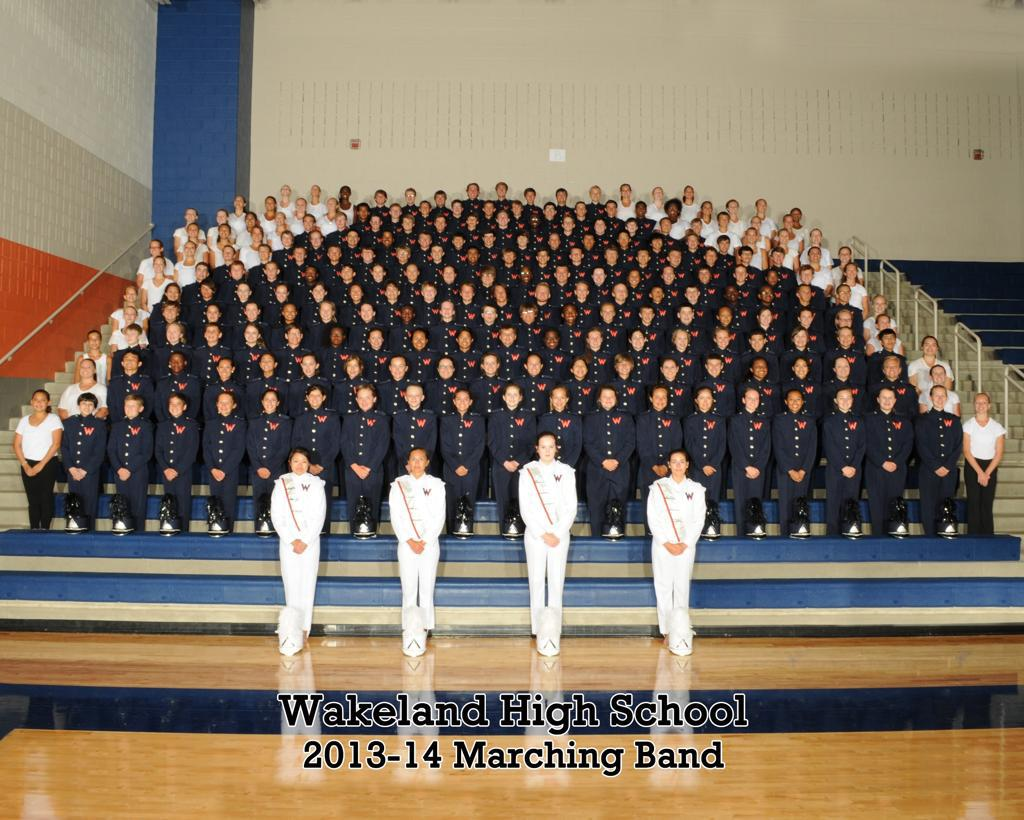face: (671, 455, 687, 475), (539, 438, 553, 460), (438, 360, 454, 379), (357, 392, 373, 411), (788, 393, 803, 412), (931, 389, 946, 408), (653, 390, 668, 409), (411, 453, 426, 472), (753, 360, 769, 377), (390, 360, 405, 378), (879, 390, 893, 409), (836, 359, 850, 378), (413, 332, 427, 351), (170, 357, 186, 373), (218, 397, 233, 414), (263, 393, 277, 411), (293, 456, 307, 474), (839, 391, 852, 410), (456, 393, 471, 409), (124, 354, 139, 370), (553, 392, 567, 409), (33, 393, 47, 410), (246, 305, 260, 322), (664, 360, 677, 378), (528, 358, 541, 376), (506, 389, 518, 408), (746, 392, 760, 408), (707, 359, 721, 375), (169, 399, 183, 415), (80, 362, 94, 378), (699, 393, 712, 410), (603, 390, 616, 407), (575, 361, 588, 378), (884, 361, 897, 378), (408, 388, 421, 405), (303, 358, 316, 375), (261, 355, 274, 372), (219, 361, 232, 378), (924, 339, 936, 357), (975, 398, 988, 414), (618, 359, 631, 375), (795, 361, 808, 377), (840, 331, 853, 347), (716, 331, 729, 347), (719, 309, 732, 325), (839, 314, 852, 330), (799, 286, 812, 302), (839, 287, 852, 303), (594, 268, 607, 284), (457, 332, 470, 348), (485, 358, 497, 375), (546, 333, 558, 350), (125, 402, 137, 419), (882, 334, 895, 349), (641, 309, 654, 324), (687, 288, 700, 303), (321, 304, 334, 319), (284, 306, 297, 321), (245, 327, 258, 342), (681, 308, 693, 324), (760, 310, 772, 326), (726, 286, 738, 302), (761, 288, 773, 304), (663, 268, 675, 284), (564, 306, 576, 322), (289, 330, 301, 346), (520, 267, 532, 283), (168, 326, 180, 342), (208, 307, 220, 323), (522, 308, 536, 321), (81, 401, 94, 415), (794, 332, 806, 347), (752, 336, 764, 351), (676, 334, 688, 349), (800, 311, 812, 326), (670, 251, 682, 266), (495, 286, 507, 301), (370, 333, 382, 348), (387, 285, 399, 300), (407, 265, 419, 280), (556, 267, 568, 282), (402, 308, 414, 323), (207, 327, 219, 342), (232, 265, 244, 280), (347, 361, 359, 376), (932, 369, 943, 385), (878, 317, 889, 333), (538, 286, 549, 302), (424, 285, 435, 301), (362, 306, 373, 322), (373, 266, 384, 282), (632, 334, 644, 348), (501, 331, 513, 345), (310, 392, 322, 406), (126, 330, 138, 344), (124, 310, 136, 324), (630, 271, 641, 286), (443, 303, 454, 318), (277, 287, 288, 302), (351, 285, 362, 300), (348, 231, 359, 246), (89, 335, 100, 350), (590, 332, 600, 348), (668, 202, 678, 218), (331, 329, 341, 345), (614, 285, 626, 298), (801, 270, 813, 283), (773, 251, 785, 264), (619, 233, 631, 246), (420, 234, 432, 247), (165, 307, 177, 320), (700, 269, 711, 283), (607, 249, 618, 263), (484, 307, 495, 321), (462, 286, 473, 300), (433, 247, 444, 261), (530, 216, 541, 230), (168, 287, 179, 301), (196, 266, 207, 280), (237, 285, 248, 299), (603, 306, 613, 321), (847, 265, 857, 280), (736, 268, 746, 283), (266, 264, 276, 279), (570, 250, 582, 262), (740, 250, 752, 262), (747, 230, 756, 246), (873, 299, 884, 312), (637, 251, 648, 264), (483, 272, 494, 285), (444, 269, 455, 282), (313, 287, 324, 300), (311, 234, 322, 247), (150, 243, 161, 256), (184, 243, 195, 256), (306, 268, 316, 282), (155, 260, 165, 274), (259, 247, 269, 261), (266, 198, 276, 212), (283, 234, 294, 246), (653, 288, 663, 301), (809, 250, 819, 263), (840, 250, 850, 263), (719, 239, 729, 252), (661, 220, 671, 233), (468, 249, 478, 262), (329, 248, 339, 261), (343, 268, 353, 281), (383, 232, 393, 245), (294, 249, 304, 262), (304, 217, 314, 230), (335, 216, 345, 229), (126, 290, 136, 303), (189, 226, 199, 239), (220, 226, 230, 239), (253, 229, 263, 242), (246, 214, 256, 227), (202, 284, 212, 297), (654, 189, 663, 203), (768, 272, 778, 284), (594, 222, 604, 234), (591, 189, 601, 201), (753, 218, 763, 230), (702, 203, 712, 215), (505, 251, 515, 263), (538, 252, 548, 264), (398, 250, 408, 262), (296, 201, 306, 213), (403, 218, 413, 230), (391, 206, 401, 218), (437, 218, 447, 230), (498, 214, 508, 226), (224, 247, 234, 259), (577, 285, 586, 298), (707, 250, 716, 263), (688, 236, 697, 249), (585, 235, 594, 248), (685, 187, 694, 200), (692, 221, 701, 234), (719, 216, 728, 229), (812, 231, 821, 244), (729, 202, 738, 215), (360, 206, 369, 219), (340, 188, 350, 199), (375, 192, 385, 203), (557, 193, 567, 204), (484, 234, 494, 245), (628, 221, 637, 233), (577, 204, 586, 216), (607, 204, 616, 216), (621, 186, 630, 198), (637, 205, 646, 217), (780, 231, 789, 243), (564, 219, 573, 231), (453, 203, 462, 215), (437, 194, 446, 206), (485, 203, 494, 215), (217, 213, 226, 225), (551, 235, 559, 248), (652, 239, 662, 249), (454, 238, 464, 248), (467, 217, 477, 227), (518, 236, 528, 246), (234, 198, 244, 208), (328, 200, 337, 211), (311, 186, 320, 197), (372, 217, 381, 228), (526, 192, 535, 203), (187, 211, 196, 222), (363, 250, 371, 262), (421, 203, 429, 215), (547, 206, 555, 218), (784, 217, 793, 227), (757, 201, 766, 211), (512, 204, 521, 214), (407, 191, 415, 202), (498, 186, 506, 197), (792, 210, 800, 220), (276, 215, 284, 225), (282, 187, 289, 198), (470, 187, 477, 198)
